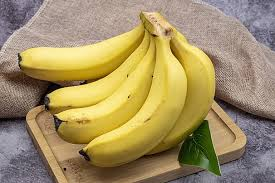banana: (16, 12, 220, 166)
